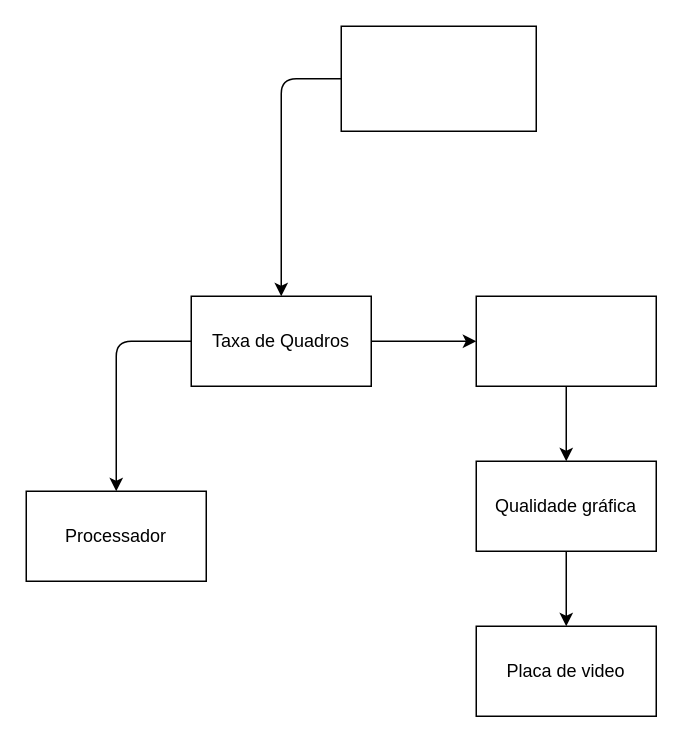
This 683x743 diagram has some shape labels left out. The centre of each missing label's shape, as x and y in pixels:
"Jogo" belongs at pixel 438 78.
"Resolução" belongs at pixel 565 340.
